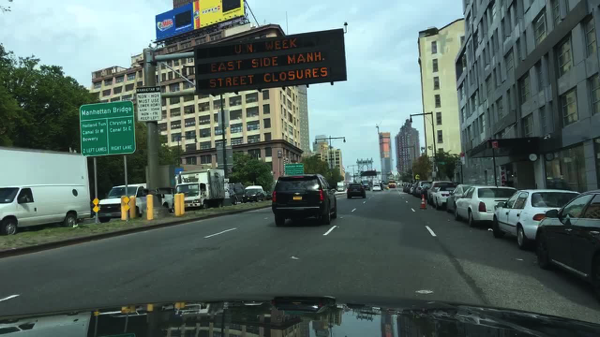car: (0, 147, 90, 237), (533, 188, 599, 299), (492, 189, 579, 250), (272, 174, 337, 227), (453, 185, 517, 229), (96, 183, 162, 224), (447, 184, 478, 215), (426, 180, 452, 206), (154, 187, 177, 212), (242, 186, 268, 203), (432, 189, 453, 210), (346, 184, 366, 199), (242, 185, 264, 196), (419, 184, 433, 200), (227, 190, 239, 206), (408, 183, 415, 194), (388, 181, 397, 189), (265, 190, 272, 200), (372, 184, 381, 191), (404, 184, 411, 192), (363, 183, 370, 191), (403, 184, 407, 191)
traffic sign: (194, 28, 345, 98), (79, 100, 136, 156), (137, 87, 163, 122), (120, 195, 130, 220), (284, 164, 304, 174), (129, 196, 136, 219), (360, 170, 376, 176), (122, 196, 131, 204), (122, 204, 130, 212), (93, 198, 100, 206), (92, 206, 99, 213), (415, 175, 420, 179)
truck: (176, 170, 227, 210), (229, 183, 243, 201), (337, 182, 345, 191)
